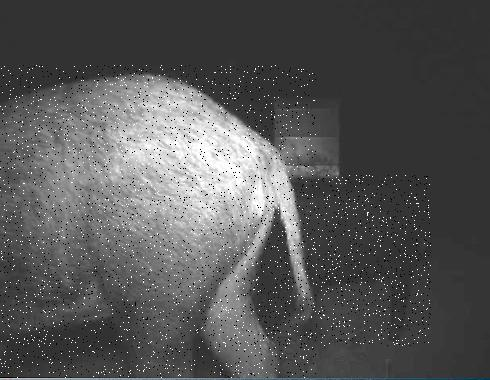Hog: (0, 65, 316, 378), (236, 175, 431, 346)
